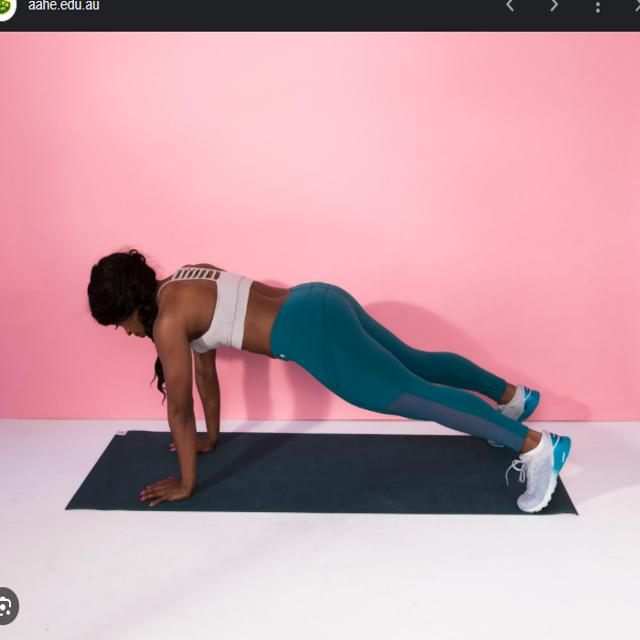Plank_Pose: (80, 238, 581, 516)
